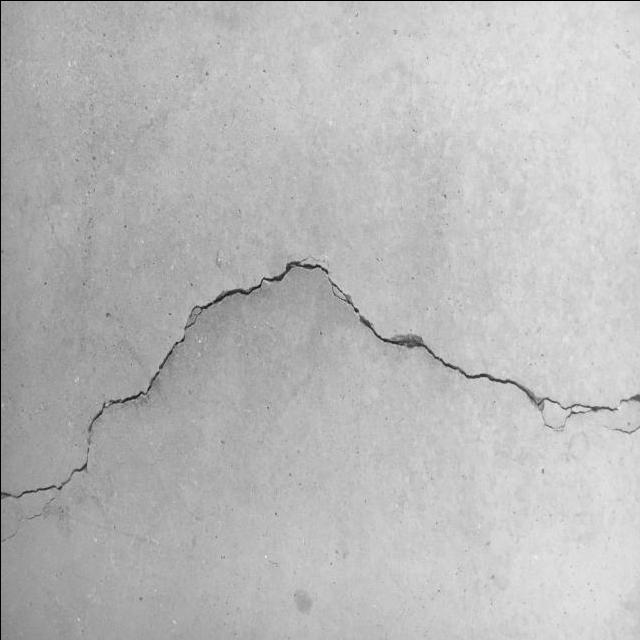SurfaceCrack: (0, 235, 639, 554)
